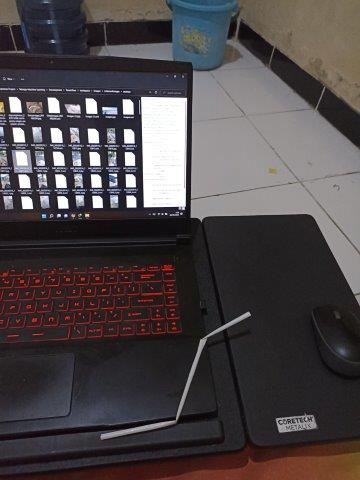sedotan: (104, 314, 250, 439)
